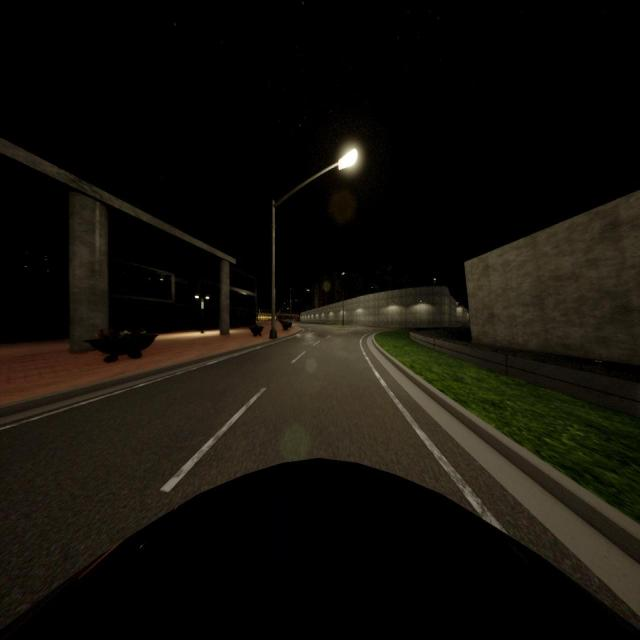Vehicle: (0, 458, 640, 638)
